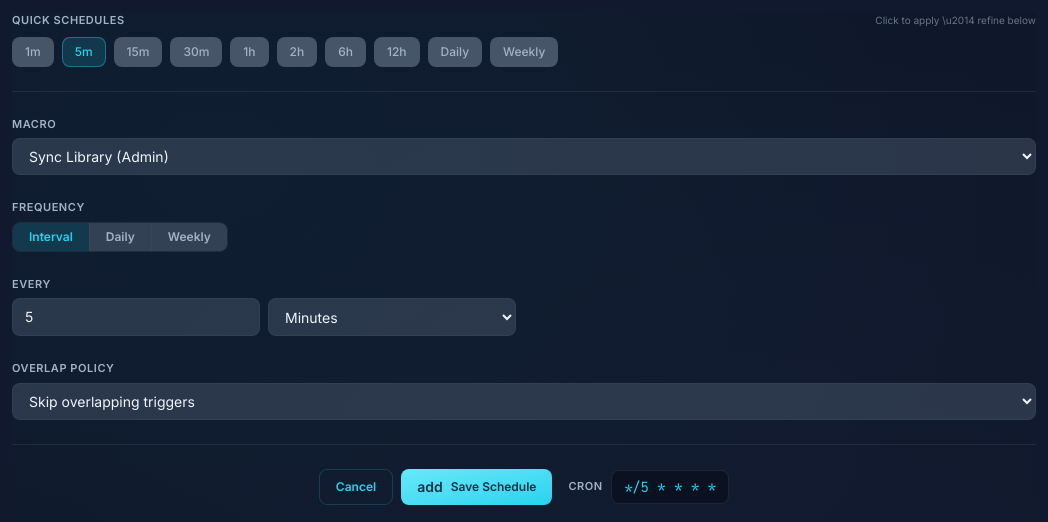
Scenario: NewScheduleForm — quick-pick presets › clicking '1h' sets every=1 hours and the cron preview to 0 */1 * * *
Click the button "1h" at (250, 52), box top-left (230, 36), bottom-right (269, 66)
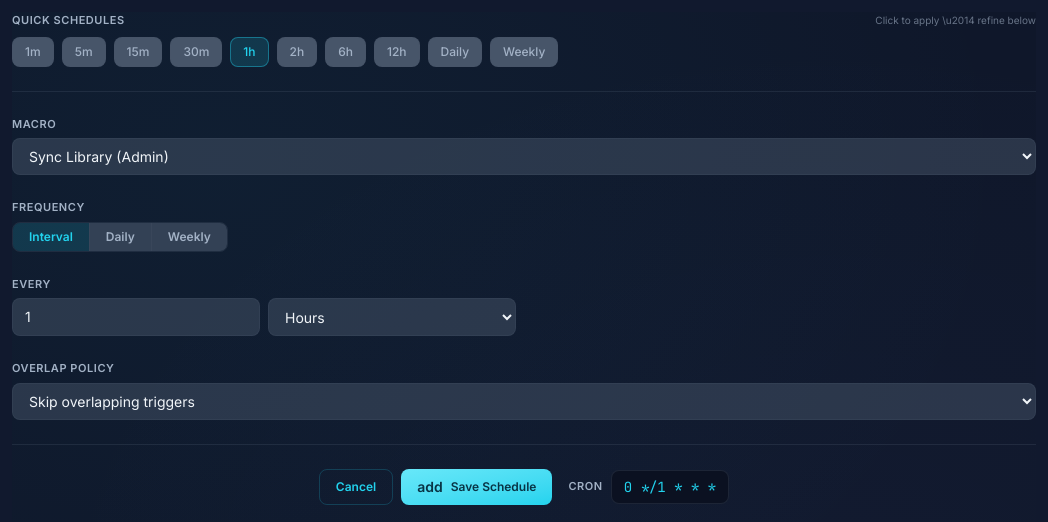
Result: the number field labelled "Every" holds "1" at top-left (12, 298), bottom-right (260, 336)
Result: the button "0 */1 * * *" is shown at top-left (611, 470), bottom-right (729, 504)
